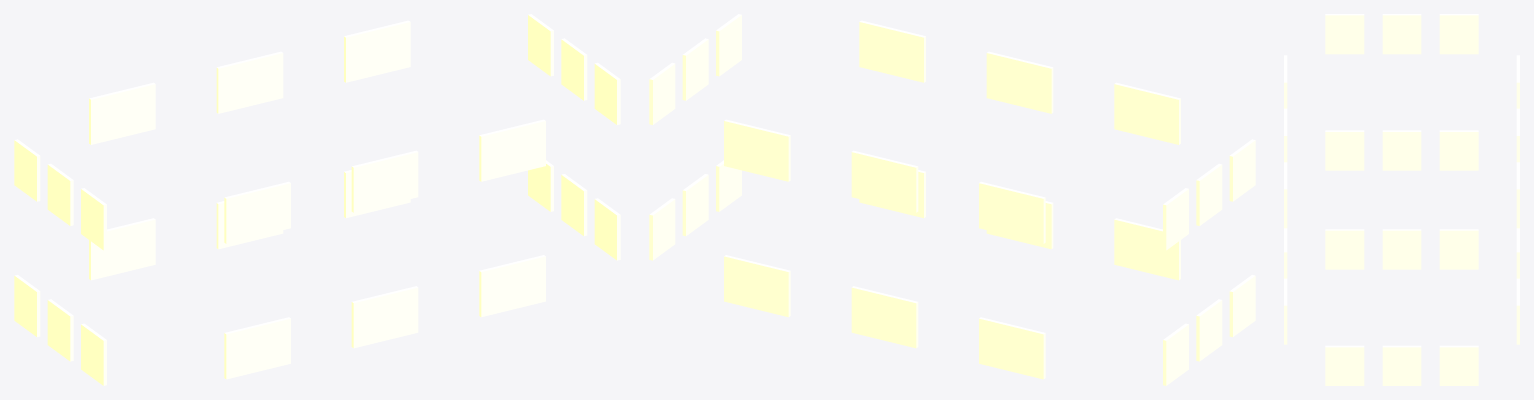
File: building-k.glb
The picture shows the model from 3 angles, left to right: view 1: azimuth 30°, elevation 25°; view 2: azimuth 150°, elevation 25°; view 3: azimuth 270°, elevation 25°; orthographic projection. The views are drawn at different scales.
Visible parts, largest first — view 1: WindowLight_back_1_1, WindowLight_front_0_1, WindowLight_front_1_1, WindowLight_front_1_2, WindowLight_back_1_2, WindowLight_front_0_0, WindowLight_front_1_0, WindowLight_back_1_0, WindowLight_front_0_2, WindowLight_back_0_0, WindowLight_left_0_2, WindowLight_left_1_2 (+12 smaller); view 2: WindowLight_back_0_1, WindowLight_front_1_1, WindowLight_back_1_1, WindowLight_back_1_2, WindowLight_back_0_0, WindowLight_back_1_0, WindowLight_front_1_2, WindowLight_back_0_2, WindowLight_front_1_0, WindowLight_front_0_0, WindowLight_left_0_0, WindowLight_left_1_0 (+12 smaller); view 3: WindowLight_left_0_0, WindowLight_left_0_1, WindowLight_left_0_2, WindowLight_right_1_0, WindowLight_right_1_1, WindowLight_right_1_2, WindowLight_left_1_0, WindowLight_left_1_2, WindowLight_right_0_0, WindowLight_right_0_2, WindowLight_left_1_1, WindowLight_right_0_1 (+8 smaller).
Part boxes in pixels (x1,y1,x2,y2): WindowLight_back_1_1: [216, 51, 283, 113]; WindowLight_front_0_1: [351, 286, 418, 348]; WindowLight_front_1_1: [351, 150, 418, 212]; WindowLight_front_1_2: [479, 119, 545, 181]; WindowLight_back_1_2: [344, 20, 410, 82]; WindowLight_front_0_0: [224, 317, 290, 379]; WindowLight_front_1_0: [224, 181, 290, 243]; WindowLight_back_1_0: [89, 82, 155, 144]; WindowLight_front_0_2: [479, 255, 545, 317]; WindowLight_back_0_0: [89, 218, 155, 280]; WindowLight_left_0_2: [14, 275, 40, 337]; WindowLight_left_1_2: [14, 139, 40, 201]; WindowLight_back_0_1: [851, 286, 918, 348]; WindowLight_front_1_1: [986, 51, 1053, 113]; WindowLight_back_1_1: [851, 150, 918, 212]; WindowLight_back_1_2: [724, 119, 790, 181]; WindowLight_back_0_0: [979, 317, 1045, 379]; WindowLight_back_1_0: [979, 181, 1045, 243]; WindowLight_front_1_2: [859, 20, 925, 82]; WindowLight_back_0_2: [724, 255, 790, 317]; WindowLight_front_1_0: [1114, 82, 1180, 144]; WindowLight_front_0_0: [1114, 218, 1180, 280]; WindowLight_left_0_0: [1229, 275, 1255, 337]; WindowLight_left_1_0: [1229, 139, 1255, 201]; WindowLight_left_0_0: [1325, 130, 1364, 170]; WindowLight_left_0_1: [1382, 130, 1421, 170]; WindowLight_left_0_2: [1439, 130, 1478, 170]; WindowLight_right_1_0: [1325, 229, 1364, 269]; WindowLight_right_1_1: [1382, 229, 1421, 269]; WindowLight_right_1_2: [1439, 229, 1478, 269]; WindowLight_left_1_0: [1325, 14, 1364, 54]; WindowLight_left_1_2: [1439, 14, 1478, 54]; WindowLight_right_0_0: [1325, 345, 1364, 385]; WindowLight_right_0_2: [1439, 345, 1478, 385]; WindowLight_left_1_1: [1382, 14, 1421, 54]; WindowLight_right_0_1: [1382, 345, 1421, 385].
Bounding box in the file's own units: 2.11 × 0.7056 × 0.972.
